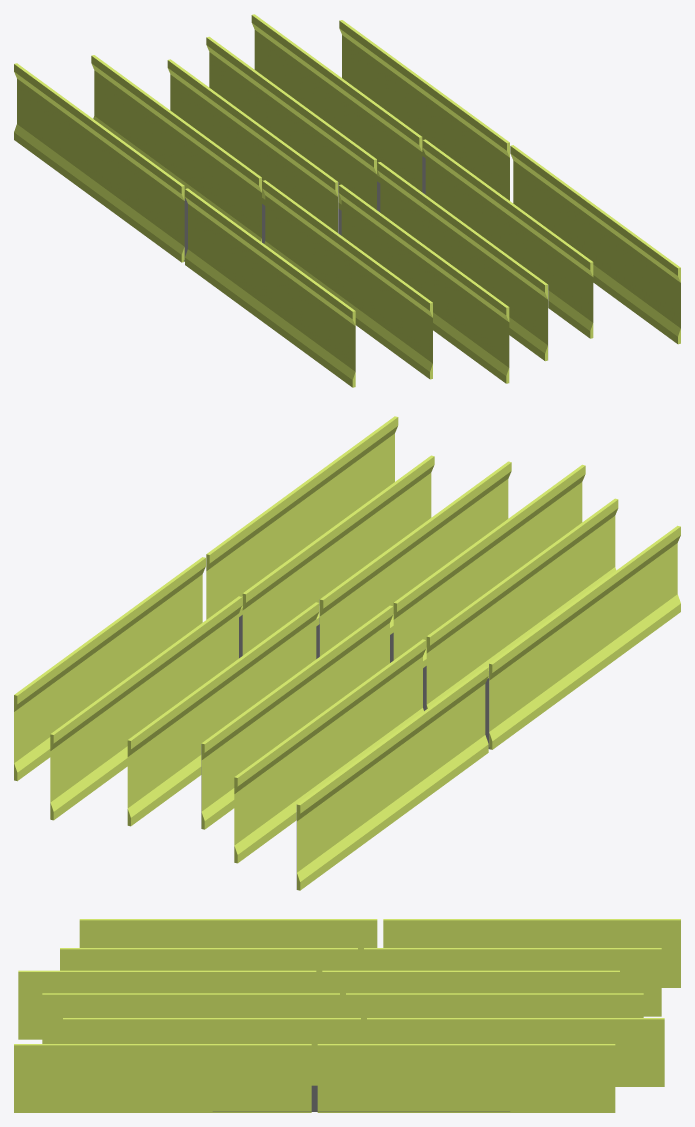
Rendered from Narrow_gap.dae.
The picture shows the model from 3 angles, top to bottom: view 1: azimuth 30°, elevation 25°; view 2: azimuth 150°, elevation 25°; view 3: azimuth 270°, elevation 25°; orthographic projection. The views are drawn at different scales.
Visible parts, largest first — view 1: node_ff26201c_ddcb_4335_a345_0b9b020cccaf_mesh7, node_ff26201c_ddcb_4335_a345_0b9b020cccaf_mesh0, node_ff26201c_ddcb_4335_a345_0b9b020cccaf_mesh4, node_ff26201c_ddcb_4335_a345_0b9b020cccaf_mesh12, node_ff26201c_ddcb_4335_a345_0b9b020cccaf_mesh3, node_ff26201c_ddcb_4335_a345_0b9b020cccaf_mesh9, node_ff26201c_ddcb_4335_a345_0b9b020cccaf_mesh11, node_ff26201c_ddcb_4335_a345_0b9b020cccaf_mesh2, node_ff26201c_ddcb_4335_a345_0b9b020cccaf_mesh10, node_ff26201c_ddcb_4335_a345_0b9b020cccaf_mesh5, node_ff26201c_ddcb_4335_a345_0b9b020cccaf_mesh1, node_ff26201c_ddcb_4335_a345_0b9b020cccaf_mesh8 (+1 smaller); view 2: node_ff26201c_ddcb_4335_a345_0b9b020cccaf_mesh7, node_ff26201c_ddcb_4335_a345_0b9b020cccaf_mesh0, node_ff26201c_ddcb_4335_a345_0b9b020cccaf_mesh3, node_ff26201c_ddcb_4335_a345_0b9b020cccaf_mesh4, node_ff26201c_ddcb_4335_a345_0b9b020cccaf_mesh5, node_ff26201c_ddcb_4335_a345_0b9b020cccaf_mesh2, node_ff26201c_ddcb_4335_a345_0b9b020cccaf_mesh8, node_ff26201c_ddcb_4335_a345_0b9b020cccaf_mesh12, node_ff26201c_ddcb_4335_a345_0b9b020cccaf_mesh1, node_ff26201c_ddcb_4335_a345_0b9b020cccaf_mesh11, node_ff26201c_ddcb_4335_a345_0b9b020cccaf_mesh9, node_ff26201c_ddcb_4335_a345_0b9b020cccaf_mesh10 (+1 smaller); view 3: node_ff26201c_ddcb_4335_a345_0b9b020cccaf_mesh2, node_ff26201c_ddcb_4335_a345_0b9b020cccaf_mesh12, node_ff26201c_ddcb_4335_a345_0b9b020cccaf_mesh5, node_ff26201c_ddcb_4335_a345_0b9b020cccaf_mesh7, node_ff26201c_ddcb_4335_a345_0b9b020cccaf_mesh0, node_ff26201c_ddcb_4335_a345_0b9b020cccaf_mesh9, node_ff26201c_ddcb_4335_a345_0b9b020cccaf_mesh3, node_ff26201c_ddcb_4335_a345_0b9b020cccaf_mesh11, node_ff26201c_ddcb_4335_a345_0b9b020cccaf_mesh10, node_ff26201c_ddcb_4335_a345_0b9b020cccaf_mesh8, node_ff26201c_ddcb_4335_a345_0b9b020cccaf_mesh1, node_ff26201c_ddcb_4335_a345_0b9b020cccaf_mesh4 (+1 smaller).
Boxes of the visible parts, x1,y1,x2,y2 form: node_ff26201c_ddcb_4335_a345_0b9b020cccaf_mesh7: (14, 63, 184, 262); node_ff26201c_ddcb_4335_a345_0b9b020cccaf_mesh0: (185, 188, 355, 387); node_ff26201c_ddcb_4335_a345_0b9b020cccaf_mesh4: (262, 180, 432, 379); node_ff26201c_ddcb_4335_a345_0b9b020cccaf_mesh12: (510, 145, 680, 344); node_ff26201c_ddcb_4335_a345_0b9b020cccaf_mesh3: (91, 55, 261, 241); node_ff26201c_ddcb_4335_a345_0b9b020cccaf_mesh9: (338, 184, 509, 383); node_ff26201c_ddcb_4335_a345_0b9b020cccaf_mesh11: (422, 139, 593, 338); node_ff26201c_ddcb_4335_a345_0b9b020cccaf_mesh2: (339, 20, 509, 200); node_ff26201c_ddcb_4335_a345_0b9b020cccaf_mesh10: (377, 162, 548, 361); node_ff26201c_ddcb_4335_a345_0b9b020cccaf_mesh5: (251, 14, 422, 191); node_ff26201c_ddcb_4335_a345_0b9b020cccaf_mesh1: (167, 59, 338, 232); node_ff26201c_ddcb_4335_a345_0b9b020cccaf_mesh8: (206, 36, 376, 210); node_ff26201c_ddcb_4335_a345_0b9b020cccaf_mesh7: (296, 666, 488, 890); node_ff26201c_ddcb_4335_a345_0b9b020cccaf_mesh0: (489, 525, 680, 749); node_ff26201c_ddcb_4335_a345_0b9b020cccaf_mesh3: (234, 639, 426, 863); node_ff26201c_ddcb_4335_a345_0b9b020cccaf_mesh4: (426, 498, 618, 708); node_ff26201c_ddcb_4335_a345_0b9b020cccaf_mesh5: (50, 596, 242, 820); node_ff26201c_ddcb_4335_a345_0b9b020cccaf_mesh2: (14, 557, 205, 781); node_ff26201c_ddcb_4335_a345_0b9b020cccaf_mesh8: (127, 602, 319, 826); node_ff26201c_ddcb_4335_a345_0b9b020cccaf_mesh12: (206, 416, 398, 619); node_ff26201c_ddcb_4335_a345_0b9b020cccaf_mesh1: (201, 605, 393, 829); node_ff26201c_ddcb_4335_a345_0b9b020cccaf_mesh11: (242, 455, 434, 655); node_ff26201c_ddcb_4335_a345_0b9b020cccaf_mesh9: (393, 464, 585, 667); node_ff26201c_ddcb_4335_a345_0b9b020cccaf_mesh10: (319, 461, 511, 656); node_ff26201c_ddcb_4335_a345_0b9b020cccaf_mesh2: (317, 1044, 615, 1112); node_ff26201c_ddcb_4335_a345_0b9b020cccaf_mesh12: (14, 1044, 311, 1112); node_ff26201c_ddcb_4335_a345_0b9b020cccaf_mesh5: (367, 1018, 664, 1086); node_ff26201c_ddcb_4335_a345_0b9b020cccaf_mesh7: (383, 919, 680, 987); node_ff26201c_ddcb_4335_a345_0b9b020cccaf_mesh0: (79, 919, 377, 970); node_ff26201c_ddcb_4335_a345_0b9b020cccaf_mesh9: (18, 970, 316, 1039); node_ff26201c_ddcb_4335_a345_0b9b020cccaf_mesh3: (364, 948, 661, 1016); node_ff26201c_ddcb_4335_a345_0b9b020cccaf_mesh11: (63, 1018, 360, 1085); node_ff26201c_ddcb_4335_a345_0b9b020cccaf_mesh10: (42, 993, 339, 1043); node_ff26201c_ddcb_4335_a345_0b9b020cccaf_mesh8: (346, 993, 643, 1043); node_ff26201c_ddcb_4335_a345_0b9b020cccaf_mesh1: (322, 970, 619, 1017); node_ff26201c_ddcb_4335_a345_0b9b020cccaf_mesh4: (60, 948, 357, 993).
Bounding box in the file's own units: 5030 × 1250 × 11200.
